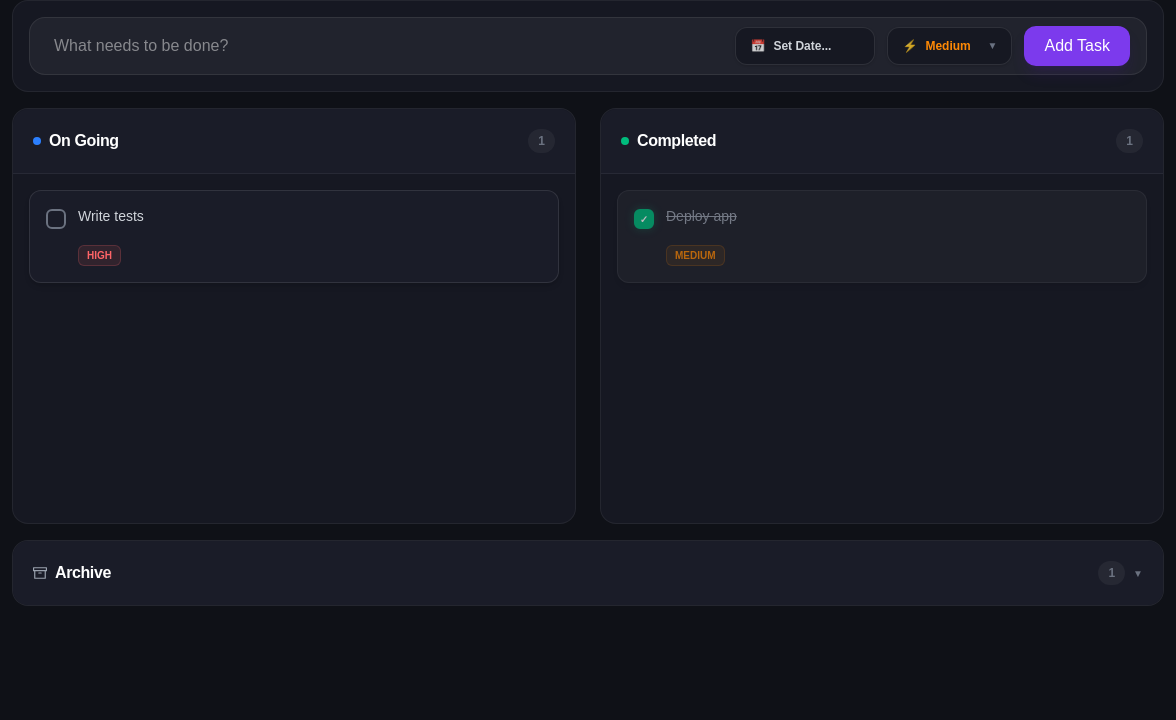
Test case: TaskBoard › expands archive section on click
Click the button "Archive 1 ▼".
click(83, 572)  # box [13,541,1163,605]
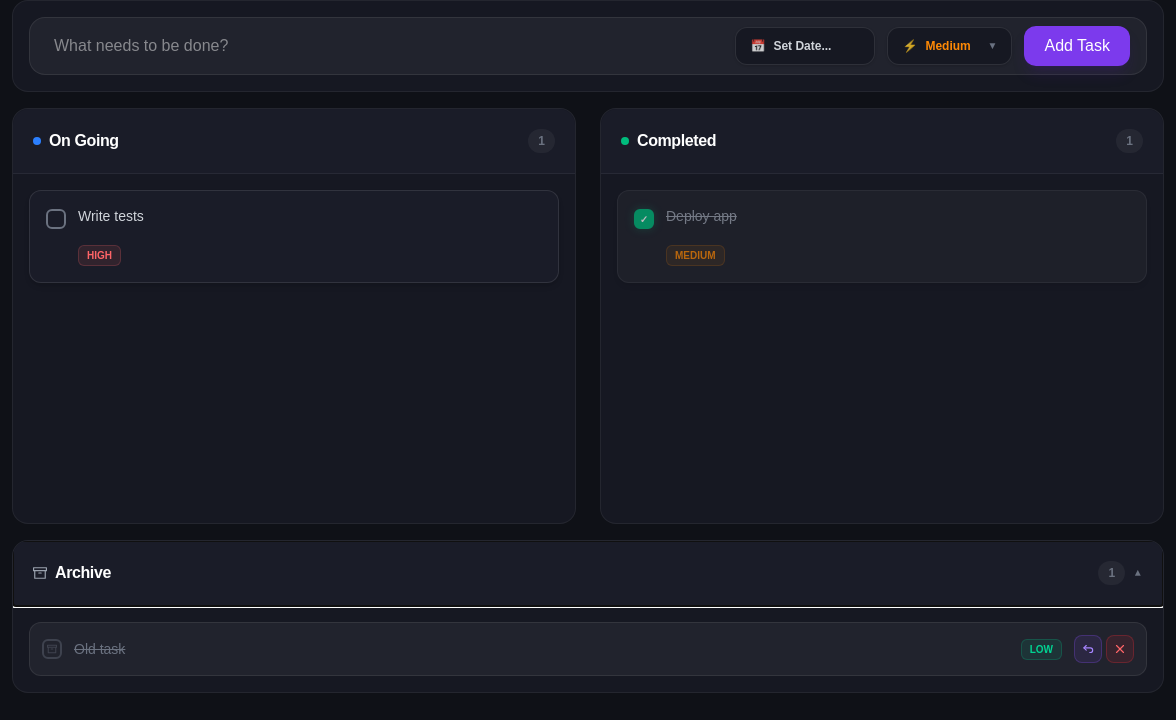
Now the text "Old task" is shown, box [74,641,125,657]
